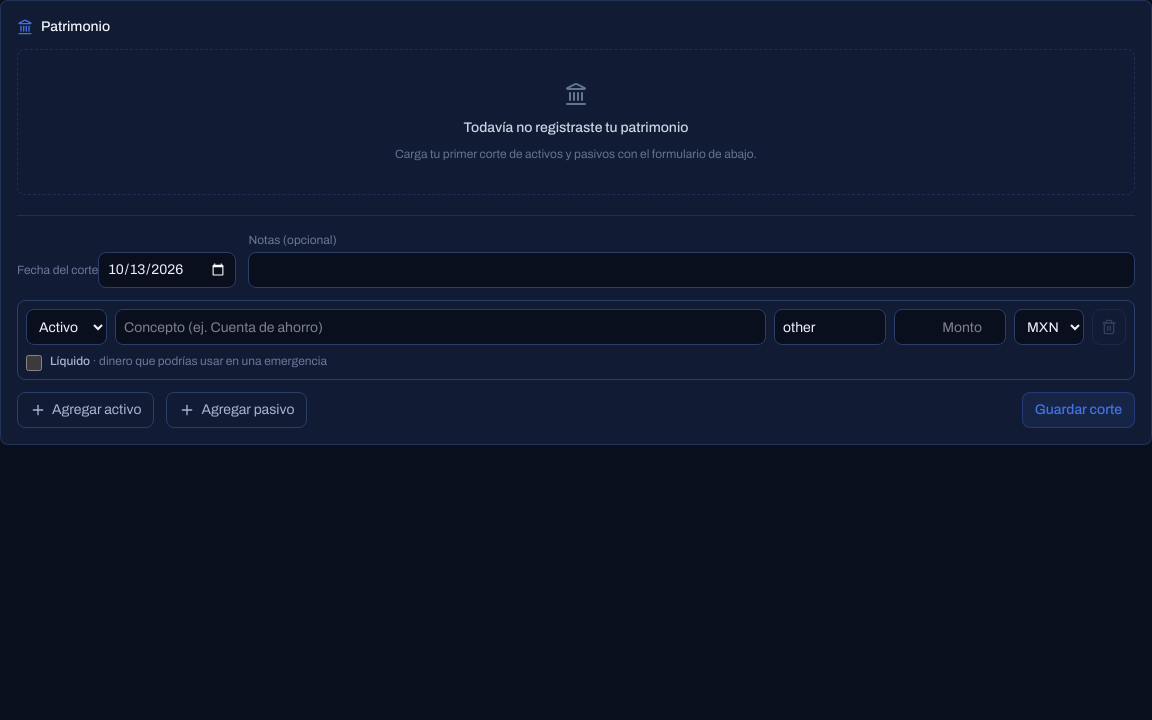
Scenario: NetWorthPanel form › defaults each item to the base currency and shows a rate field only for a foreign one
Expected: the field labelled "Tipo de cambio" is not shown
Select "USD" in the dropdown named "Moneda" at (1049, 327), box [1014,309,1084,345]
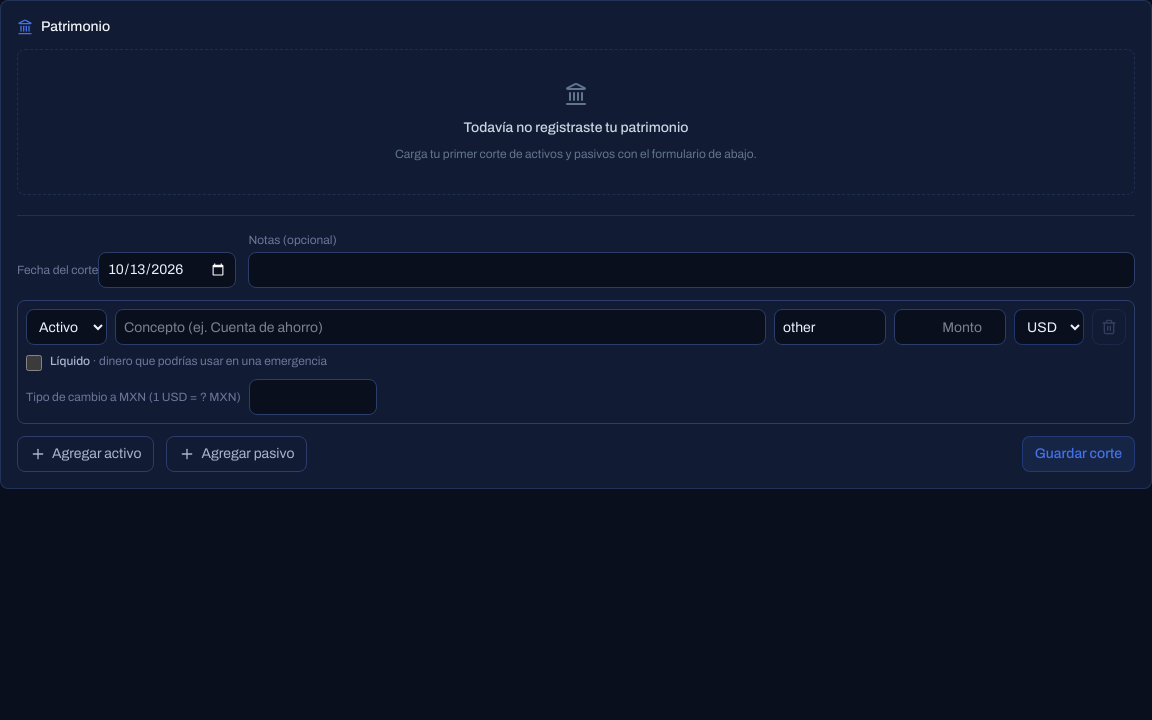
Expected: the number field labelled "Tipo de cambio a MXN (1 USD = ? MXN)" is shown, [249,379,377,415]
